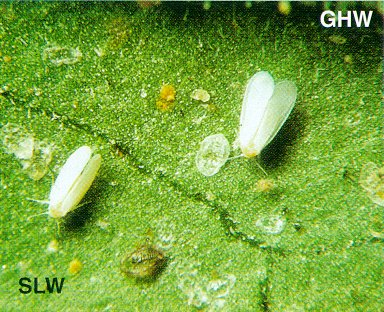whitefly: (224, 70, 299, 177), (29, 145, 101, 233)
